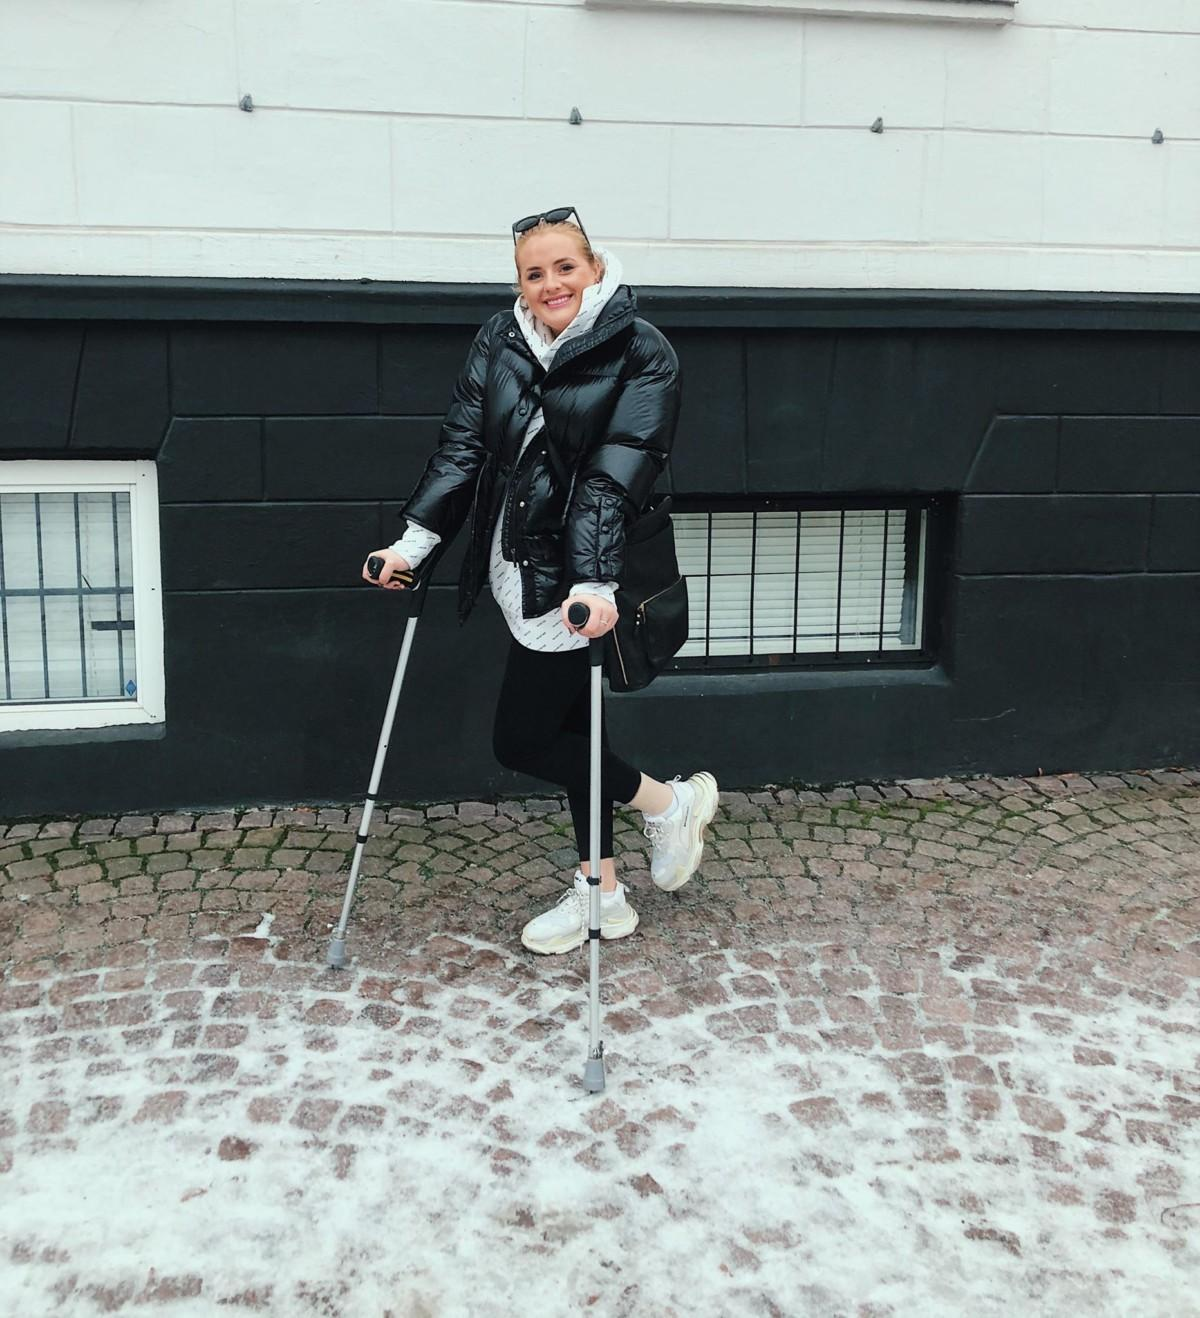crutches: (299, 176, 764, 1114)
